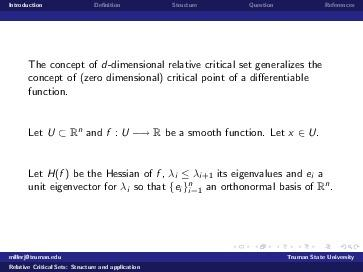paragraph: (20, 49, 344, 213)
